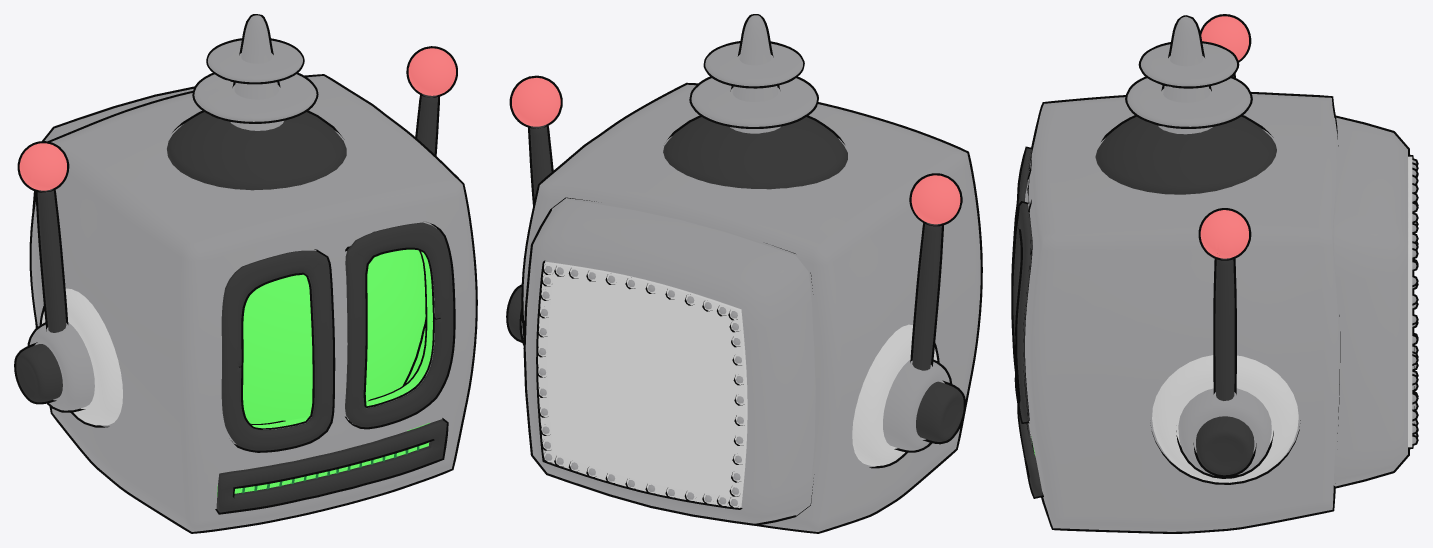
File: HEAD.PHYSICS.ROBOT.glb
The picture shows the model from 3 angles, left to right: view 1: azimuth 30°, elevation 25°; view 2: azimuth 150°, elevation 25°; view 3: azimuth 270°, elevation 25°; orthographic projection. The views are drawn at different scales.
Parts seen in each view (by area): view 1: HEAD.PHYSICS.ROBOT; view 2: HEAD.PHYSICS.ROBOT; view 3: HEAD.PHYSICS.ROBOT.
Part boxes in pixels (x1,y1,x2,y2): HEAD.PHYSICS.ROBOT: (14, 14, 477, 533); HEAD.PHYSICS.ROBOT: (506, 14, 982, 533); HEAD.PHYSICS.ROBOT: (1011, 14, 1418, 533).
Size of the model in its own units: 1.75 by 1.74 by 1.39.
